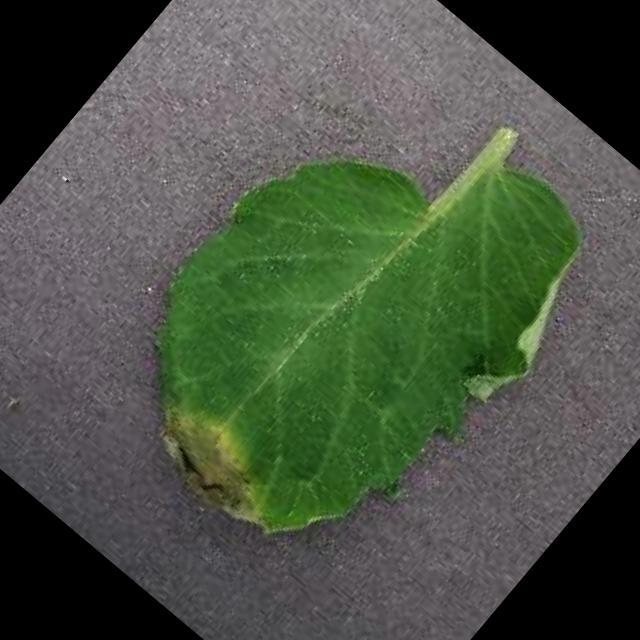Tomato late blight leaf: (71, 34, 630, 608)
